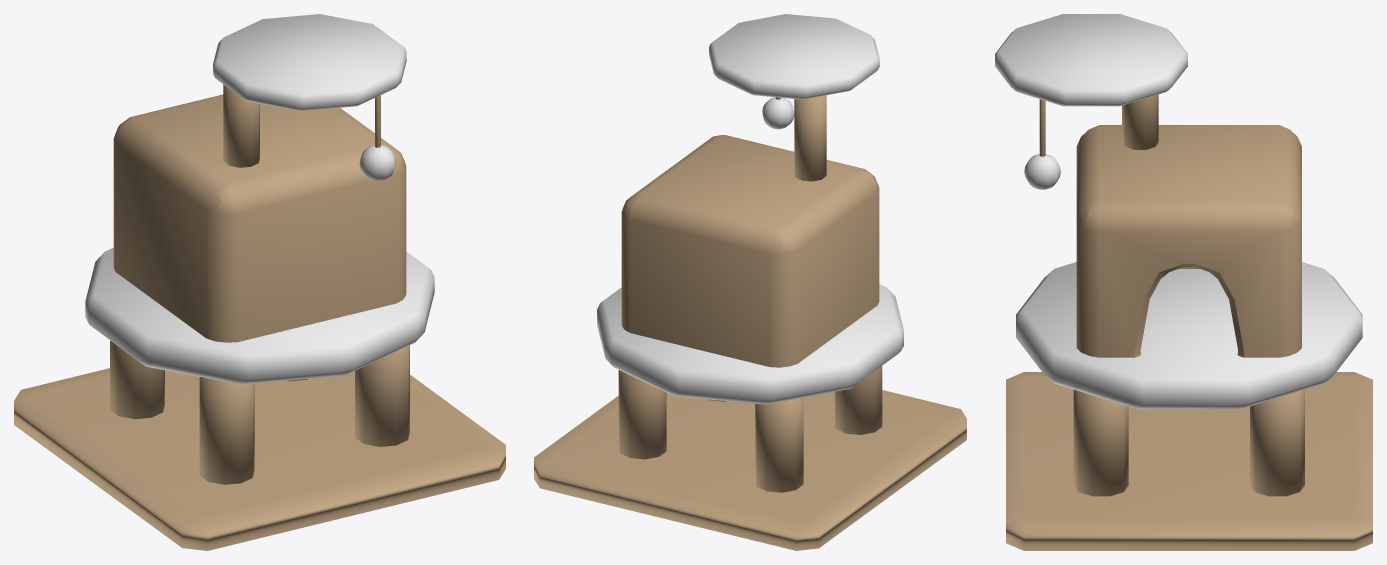
The model's file is catTree.fbx.
3 renders of one model, left to right at view 1: azimuth 30°, elevation 25°; view 2: azimuth 150°, elevation 25°; view 3: azimuth 270°, elevation 25°, orthographic. The views are drawn at different scales.
Visible parts, largest first — view 1: Cube, Cube.002, Circle.001, Circle, Cylinder.006, Cylinder.004, Cylinder.005, Cylinder.003, Sphere; view 2: Cube, Cube.002, Circle.001, Circle, Cylinder.005, Cylinder.002, Cylinder.003, Cylinder.006, Sphere; view 3: Cube.002, Cube, Circle.001, Circle, Cylinder.004, Cylinder.002, Cylinder.003, Sphere.
Part boxes in pixels (x1,y1,x2,y2): Cube: (113,94,406,342); Cube.002: (14,368,505,550); Circle.001: (85,247,434,384); Circle: (213,14,406,111); Cylinder.006: (199,377,254,484); Cylinder.004: (355,345,409,446); Cylinder.005: (110,340,164,419); Cylinder.003: (223,84,259,167); Sphere: (359,145,395,181); Cube: (621,135,879,367); Cube.002: (534,390,966,550); Circle.001: (597,284,903,404); Circle: (709,14,879,99); Cylinder.005: (755,397,803,492); Cylinder.002: (618,370,666,459); Cylinder.003: (794,95,826,181); Cylinder.006: (834,366,882,434); Sphere: (762,97,794,129); Cube.002: (1006,372,1372,550); Cube: (1076,125,1301,357); Circle.001: (1016,262,1362,409); Circle: (995,14,1187,106); Cylinder.004: (1073,389,1128,496); Cylinder.002: (1250,389,1304,496); Cylinder.003: (1122,94,1158,149); Sphere: (1024,154,1060,189).
Bounding box in the file's own units: 375 × 478 × 386.
